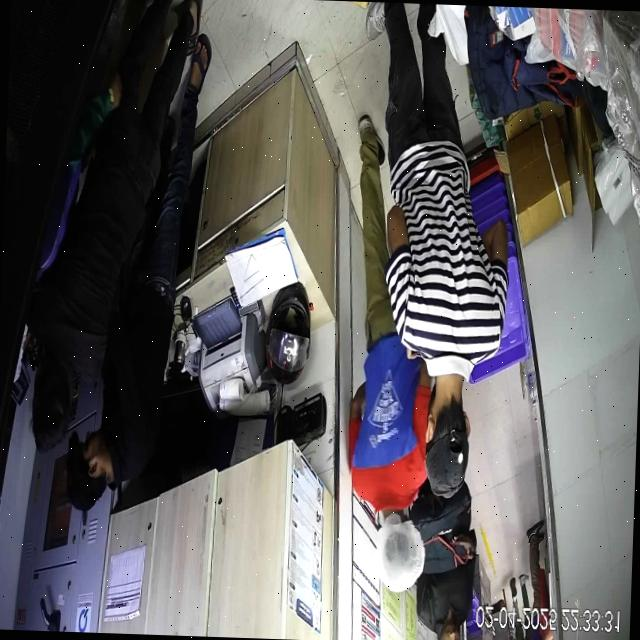helmet: (265, 282, 310, 385)
no_helmet: (425, 375, 470, 498), (30, 344, 72, 455), (374, 507, 424, 593), (66, 430, 112, 510)
